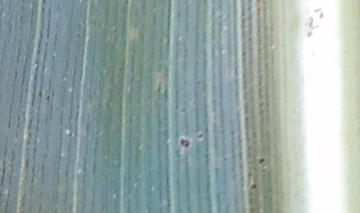tarspot: (304, 13, 321, 41), (177, 136, 191, 151), (312, 6, 326, 20), (257, 155, 267, 166), (64, 130, 75, 139), (195, 131, 204, 141), (177, 105, 187, 114), (44, 93, 51, 103), (250, 182, 257, 191), (75, 103, 80, 110)
